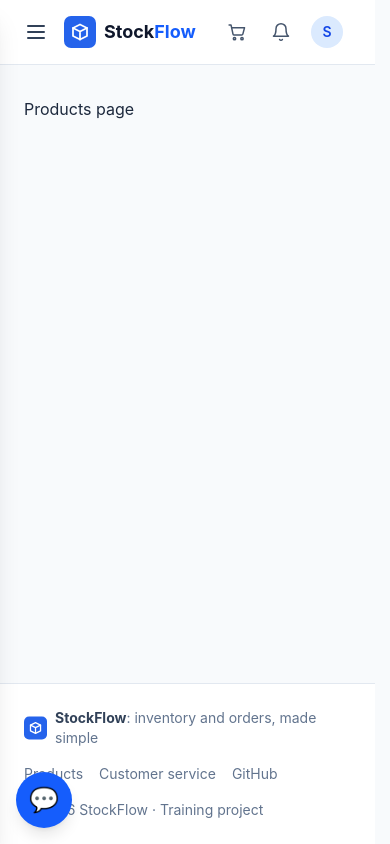
Scenario: the ☰ menu has the language, the currency, dark mode and Log out, for phones
Click the button named "Menu" at (36,32), box x1=16 y1=12 x2=56 y2=52
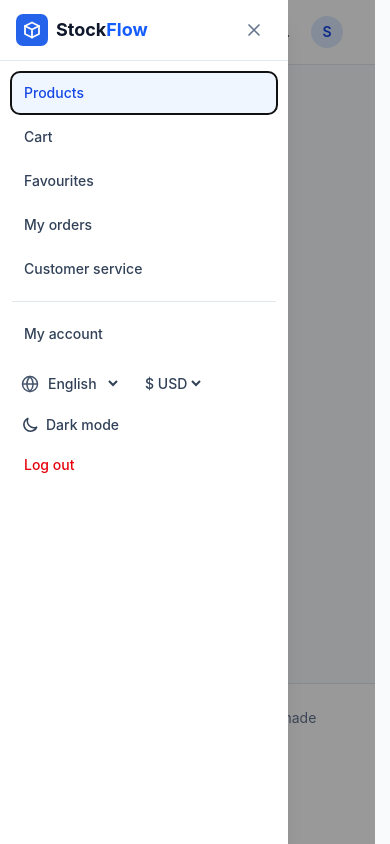
Expected: the 1st dropdown named "Language" is shown, x1=44 y1=370 x2=121 y2=397
Expected: the 2nd dropdown named "Currency" is shown, x1=141 y1=370 x2=204 y2=397
Click the button "Log out" at (49,464), box x1=12 y1=445 x2=276 y2=485
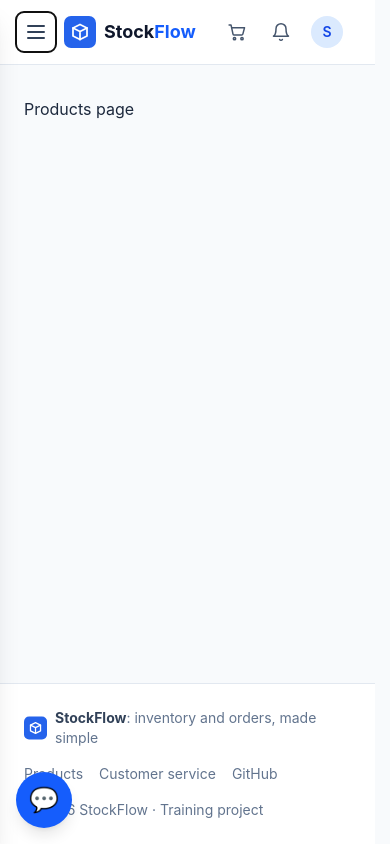
Now the button named "Menu" is collapsed, box x1=16 y1=12 x2=56 y2=52
